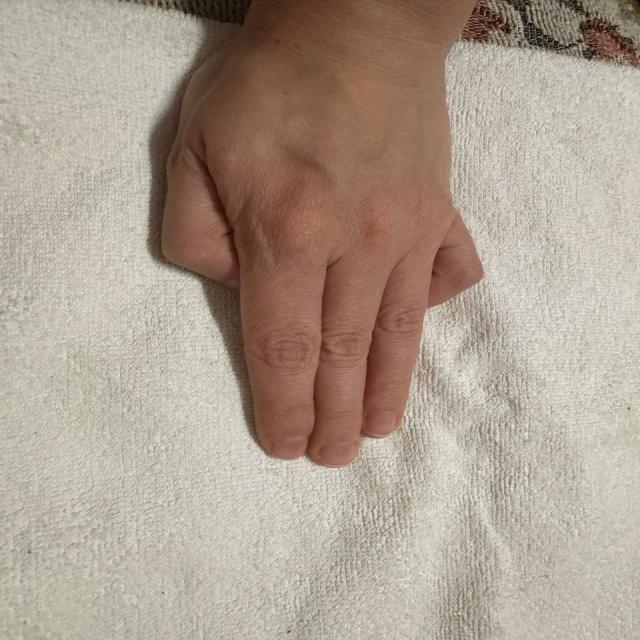t: (158, 32, 504, 475)
